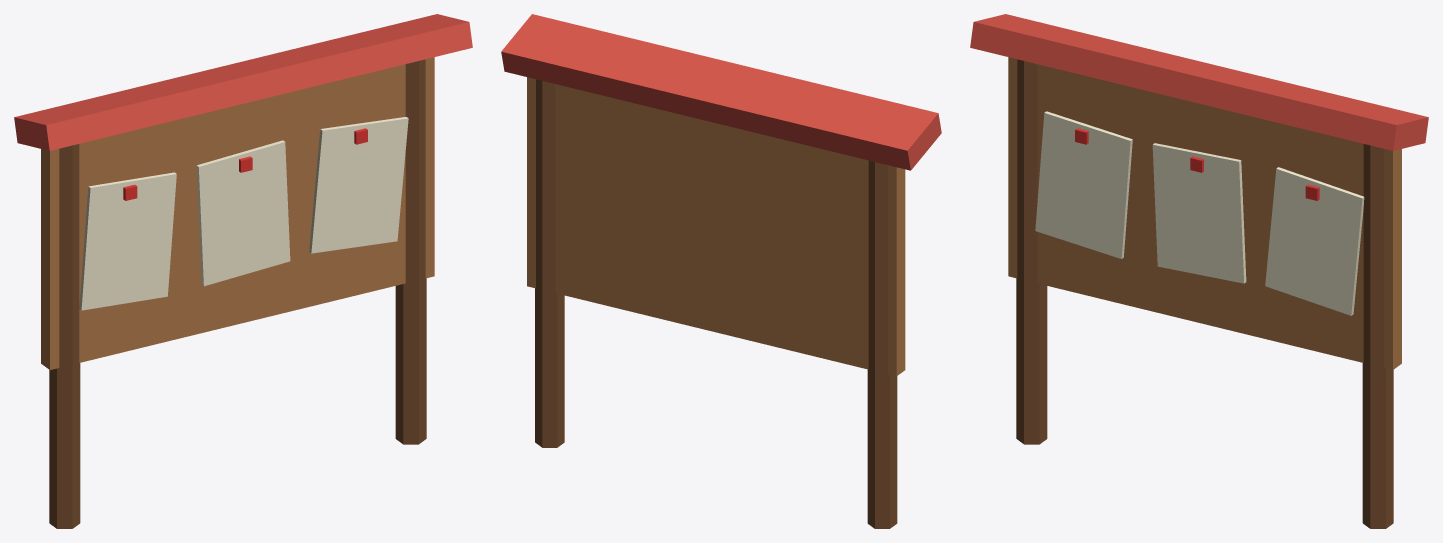
File: order_board.glb
3 renders of one model, left to right at view 1: azimuth 30°, elevation 25°; view 2: azimuth 150°, elevation 25°; view 3: azimuth 330°, elevation 25°, orthographic. The views are drawn at different scales.
Parts seen in each view (by area): view 1: order_board; view 2: order_board; view 3: order_board.
Part boxes in pixels (x1,y1,x2,y2): order_board: [14, 14, 472, 528]; order_board: [501, 14, 941, 528]; order_board: [970, 14, 1428, 528].
Bounding box in the file's own units: 2.2 × 2.1 × 0.3208.
